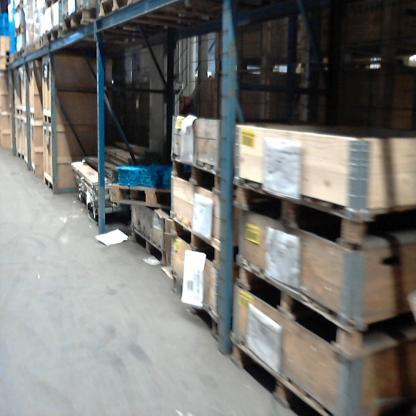pallets: (233, 250, 414, 351), (229, 167, 416, 250), (228, 340, 339, 415), (32, 0, 152, 54), (170, 213, 233, 271), (102, 171, 183, 216), (162, 151, 230, 198), (122, 219, 173, 267), (11, 148, 32, 171), (7, 106, 36, 122), (39, 171, 57, 194), (36, 108, 56, 128)
